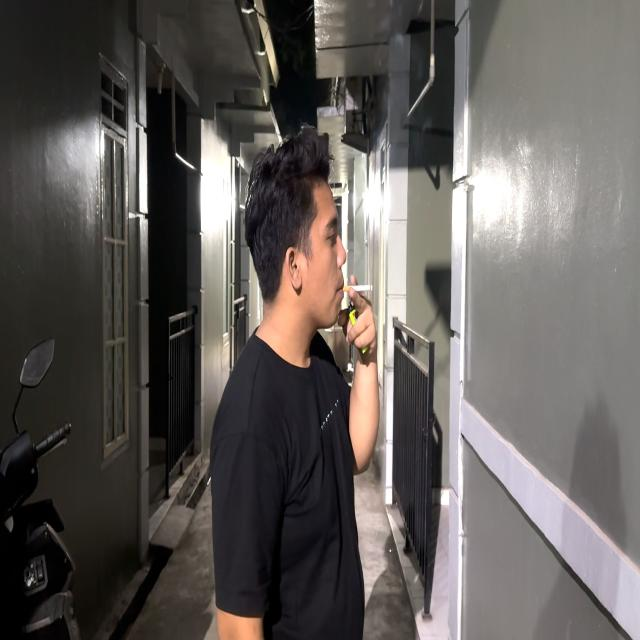cigarette: (345, 283, 374, 293)
smoking: (244, 126, 379, 476)
